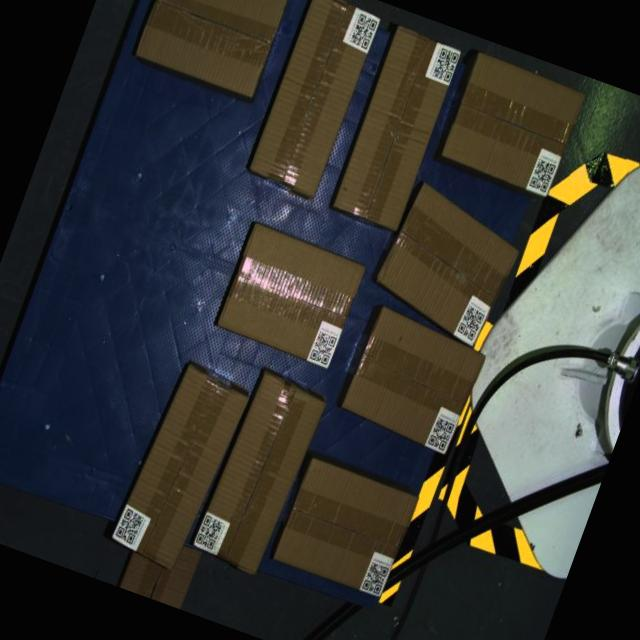box: (107, 360, 253, 576), (190, 369, 329, 578), (365, 178, 531, 353), (247, 0, 385, 200), (331, 25, 463, 232), (338, 305, 490, 457), (216, 221, 368, 369), (271, 455, 421, 600), (440, 52, 587, 198), (134, 0, 292, 99)
